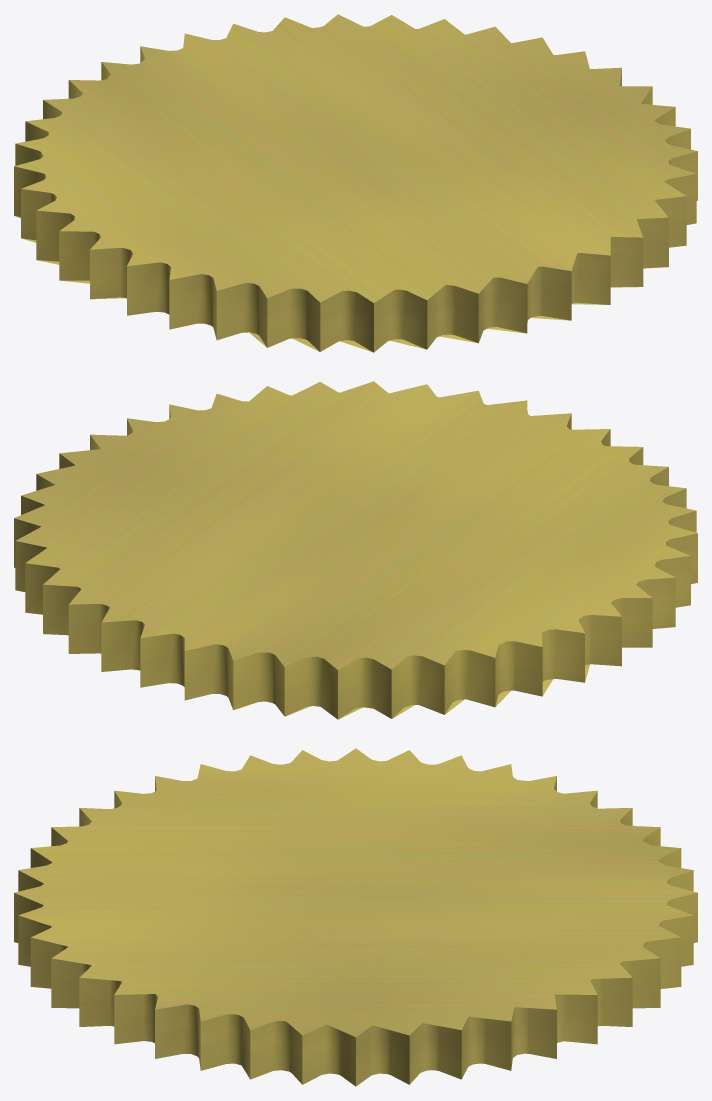
File: SprocketFacet040.fbx
3 renders of one model, top to bottom at view 1: azimuth 30°, elevation 25°; view 2: azimuth 150°, elevation 25°; view 3: azimuth 270°, elevation 25°, orthographic.
Visible parts, largest first — view 1: SprocketFacet040; view 2: SprocketFacet040; view 3: SprocketFacet040.
Boxes of the visible parts, x1,y1,x2,y2 form: SprocketFacet040: (14, 14, 697, 352); SprocketFacet040: (14, 381, 697, 719); SprocketFacet040: (14, 748, 697, 1086).
Size of the model in its own units: 247 by 19.69 by 247.
